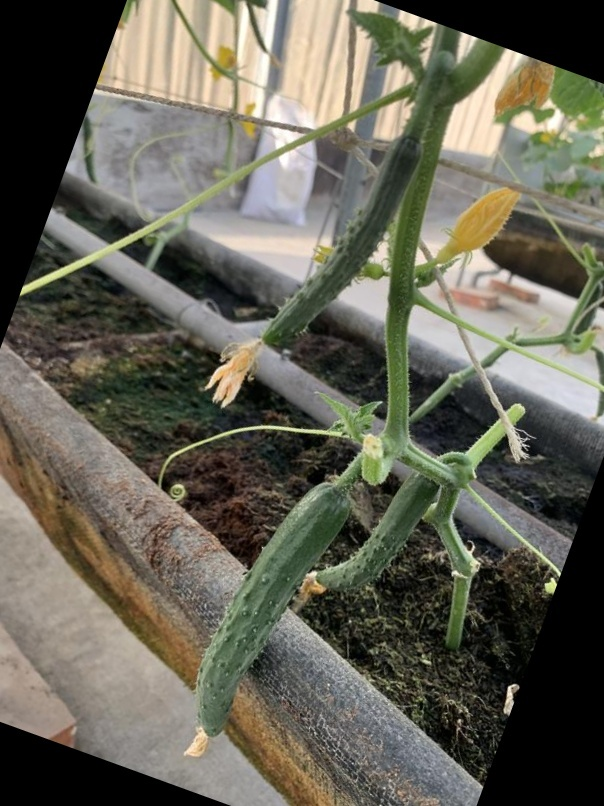bud: (440, 180, 519, 263)
growth: (241, 134, 418, 356), (304, 465, 442, 596)
mature: (195, 477, 351, 746)
